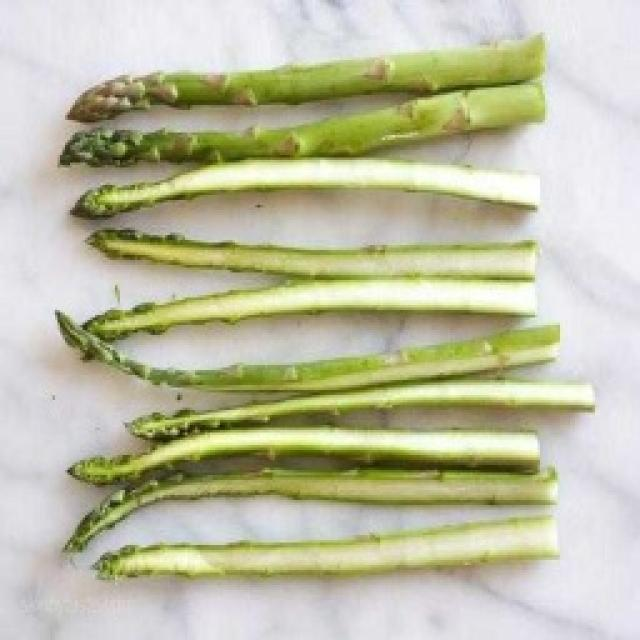Asparagus spear: (121, 463, 575, 522), (96, 47, 570, 101), (88, 330, 550, 374), (96, 119, 538, 155)
